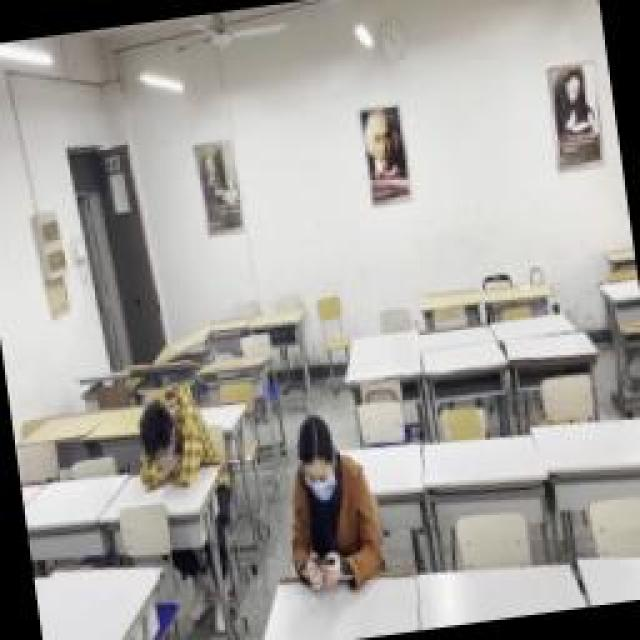phone: (275, 412, 383, 590)
sleep: (122, 378, 218, 492)
